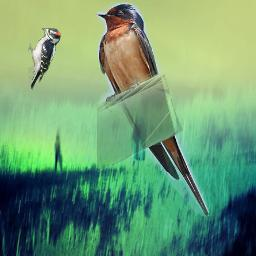Swallow: (97, 2, 209, 216)
Woodpecker: (28, 26, 61, 90)
